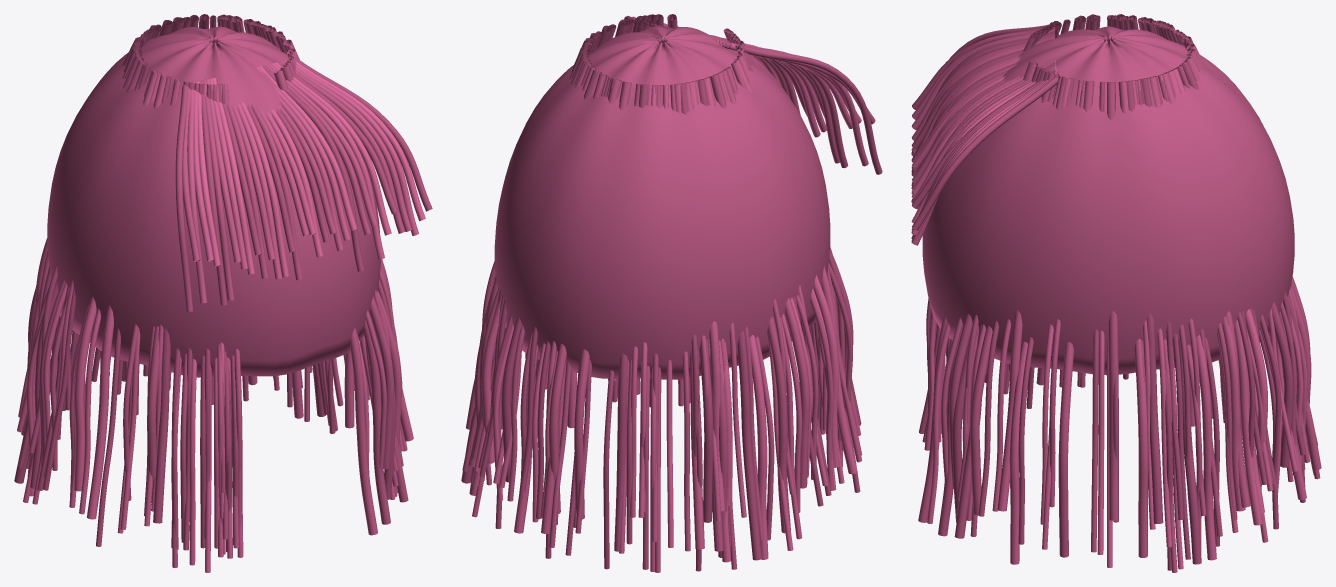
File: wig-academy.glb
3 views of the same model, side by side, from view 1: azimuth 30°, elevation 25°; view 2: azimuth 150°, elevation 25°; view 3: azimuth 270°, elevation 25° (orthographic).
Parts seen in each view (by area): view 1: Wig cap; view 2: Wig cap; view 3: Wig cap.
Part boxes in pixels (left/top/right/bottom): Wig cap: left=14, top=14, right=432, bottom=572; Wig cap: left=461, top=14, right=882, bottom=572; Wig cap: left=911, top=14, right=1321, bottom=572.
Size of the model in its own units: 0.2064 by 0.2637 by 0.2137.
